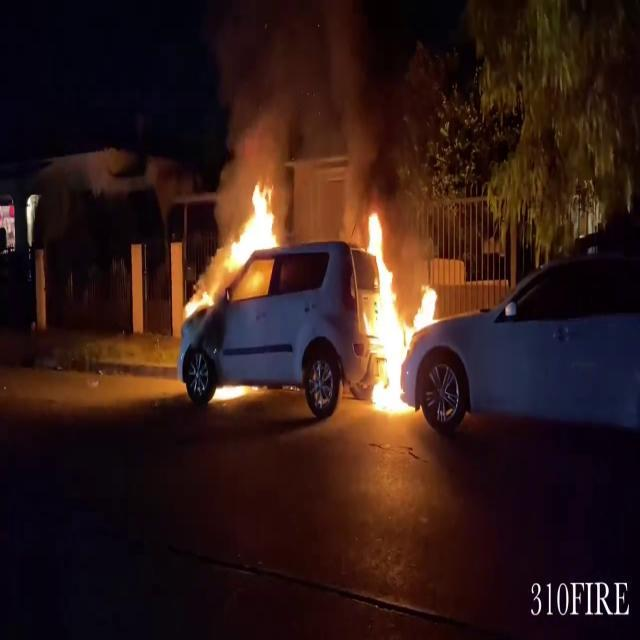Fire: (359, 204, 437, 416), (222, 174, 286, 278)
Smoke: (208, 2, 406, 208)
